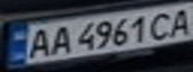1: (127, 12, 151, 44)
4: (75, 20, 96, 52)
6: (112, 16, 133, 47)
9: (93, 18, 115, 50)
A: (21, 26, 54, 61), (163, 4, 193, 37), (45, 24, 72, 56)
C: (145, 9, 178, 39)
